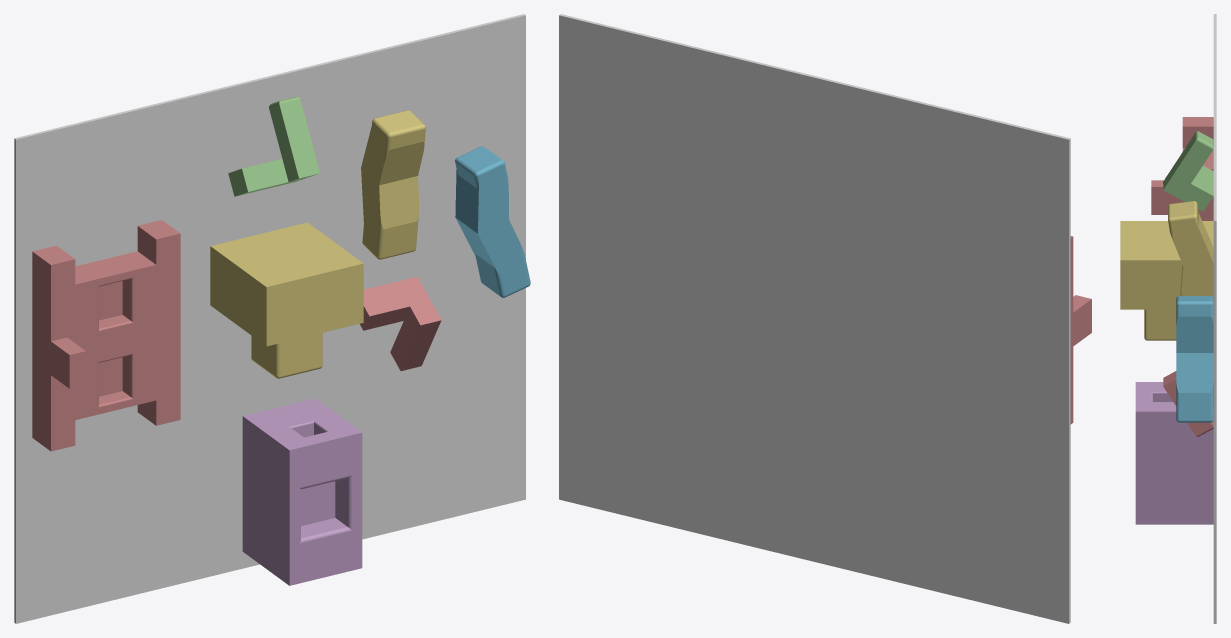
The model's file is pickup_layout.glb.
The picture shows the model from 3 angles, left to right: view 1: azimuth 30°, elevation 25°; view 2: azimuth 150°, elevation 25°; view 3: azimuth 270°, elevation 25°; orthographic projection. The views are drawn at different scales.
Parts seen in each view (by area): view 1: world, 0.obj, 3.obj, 6.obj, 1.obj, 2.obj, 5.obj, 4.obj; view 2: world, 0.obj; view 3: 3.obj, 6.obj, 2.obj, 1.obj, 4.obj, world, 0.obj, 5.obj.
Part boxes in pixels (<box>): world: <box>14,14,525,623</box>; 0.obj: <box>32,220,180,451</box>; 3.obj: <box>242,398,362,585</box>; 6.obj: <box>210,222,363,378</box>; 1.obj: <box>361,110,425,259</box>; 2.obj: <box>455,146,530,297</box>; 5.obj: <box>360,276,441,371</box>; 4.obj: <box>228,97,319,196</box>; world: <box>559,14,1070,623</box>; 0.obj: <box>1070,236,1091,424</box>; 3.obj: <box>1135,382,1213,524</box>; 6.obj: <box>1120,221,1213,340</box>; 2.obj: <box>1176,296,1213,422</box>; 1.obj: <box>1168,201,1213,295</box>; 4.obj: <box>1163,131,1213,211</box>; world: <box>1213,14,1216,623</box>; 0.obj: <box>1151,117,1213,220</box>; 5.obj: <box>1163,371,1213,436</box>.
Bounding box in the file's own units: 31.48 × 28.58 × 6.2.
